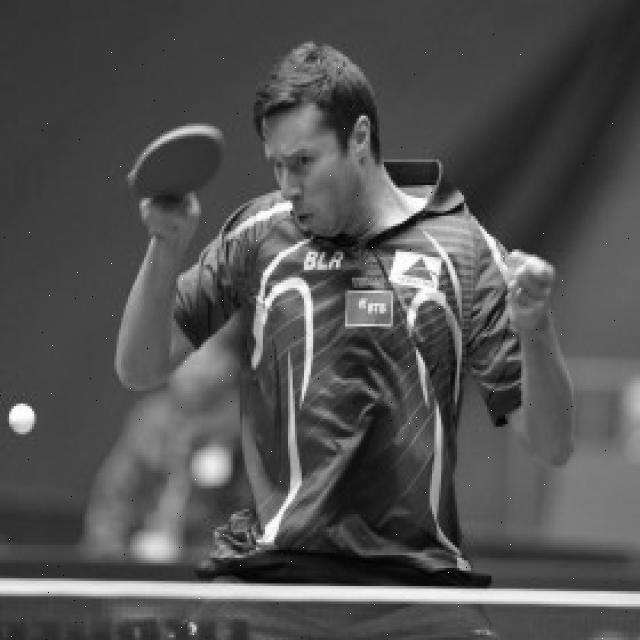ping-pong-ball: (2, 396, 39, 434)
